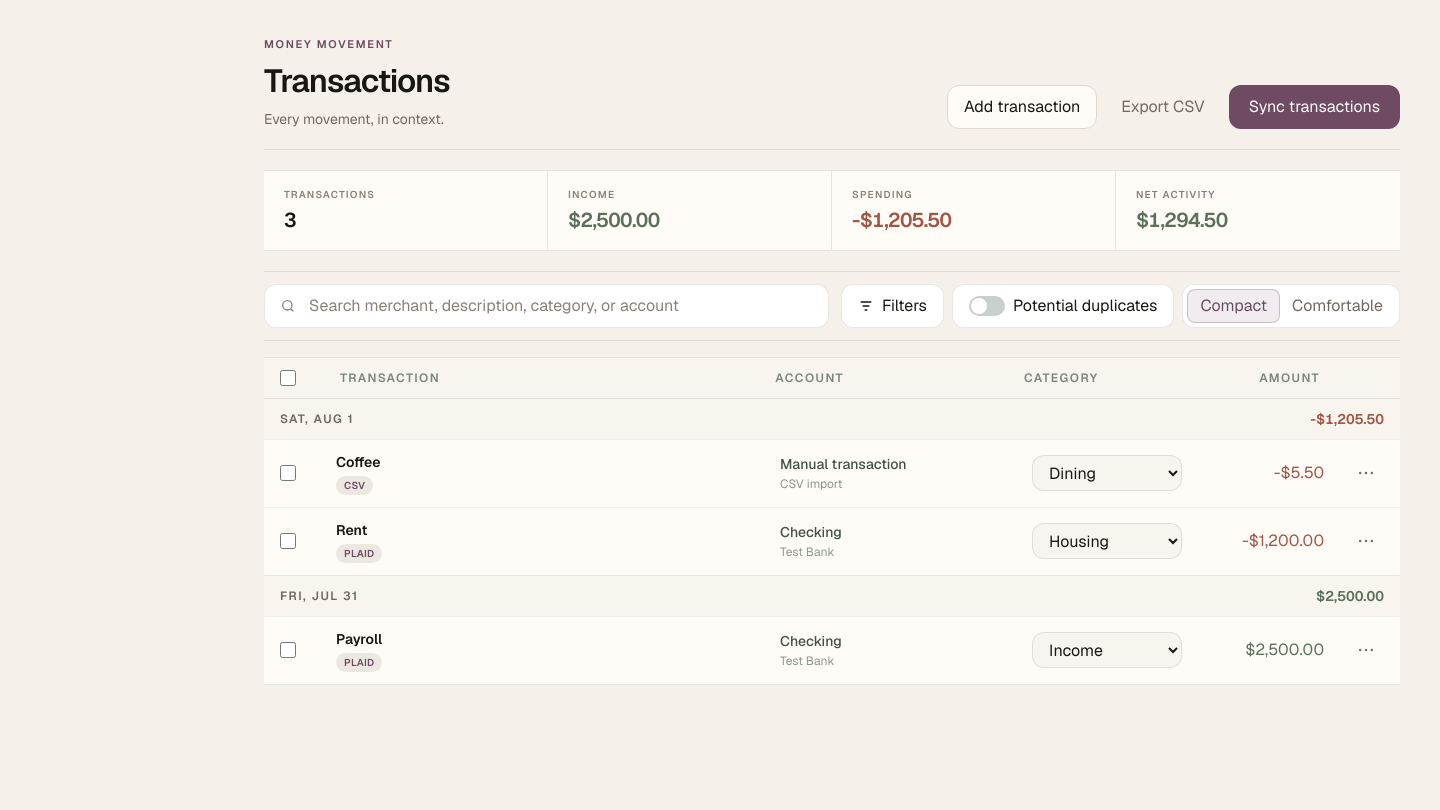
Test case: TransactionsPage bulk workflows › applies one bulk category request and offers Undo
The image size is (1440, 810).
Click the checkbox named "Select Coffee": {"x": 288, "y": 473} [280,465,296,481]
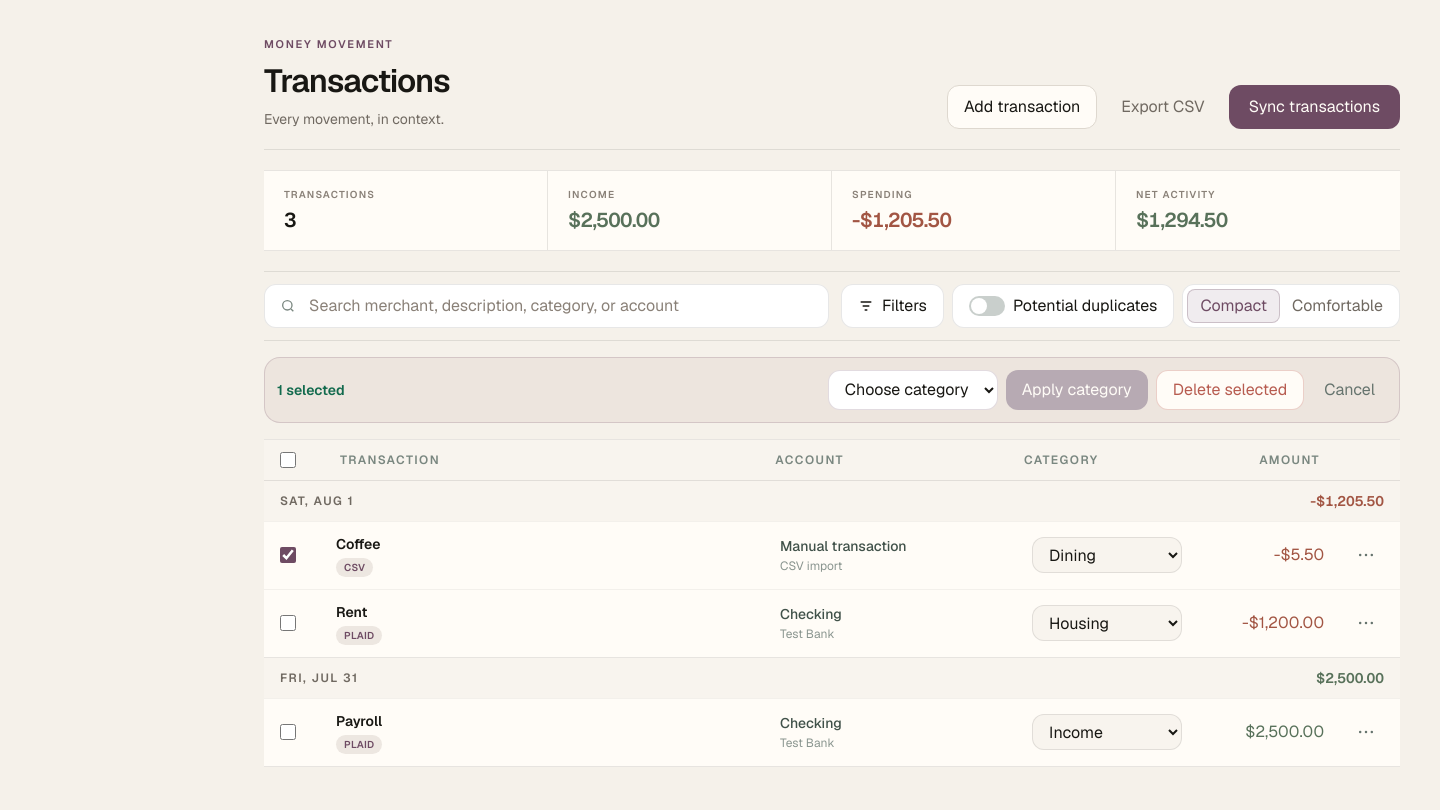
Click the checkbox named "Select Rent": {"x": 288, "y": 623} [280,615,296,631]
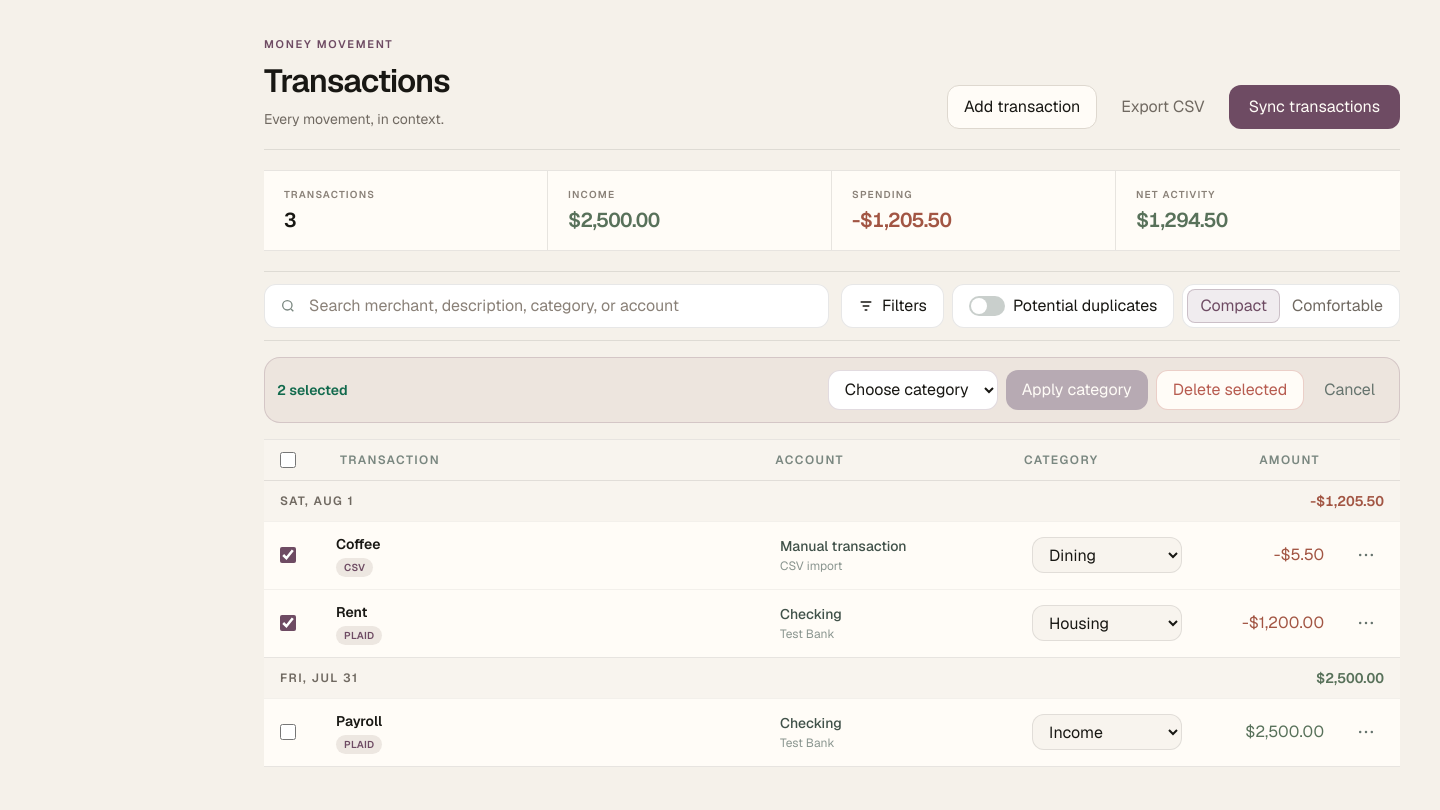
Select "Groceries" in the dropdown named "Bulk category": {"x": 913, "y": 390} [828,370,998,410]
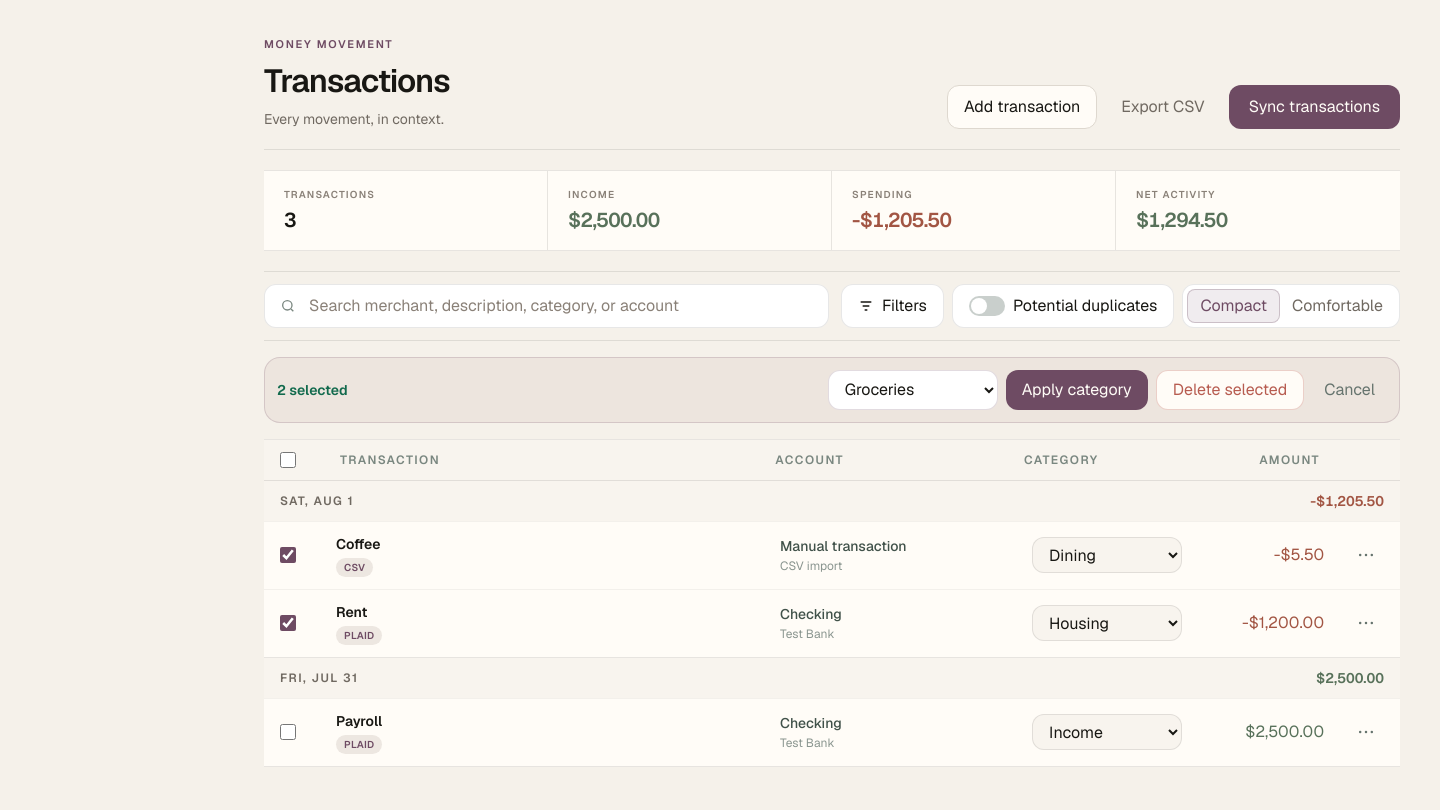
Click the button "Apply category": {"x": 1077, "y": 390} [1006,370,1148,410]
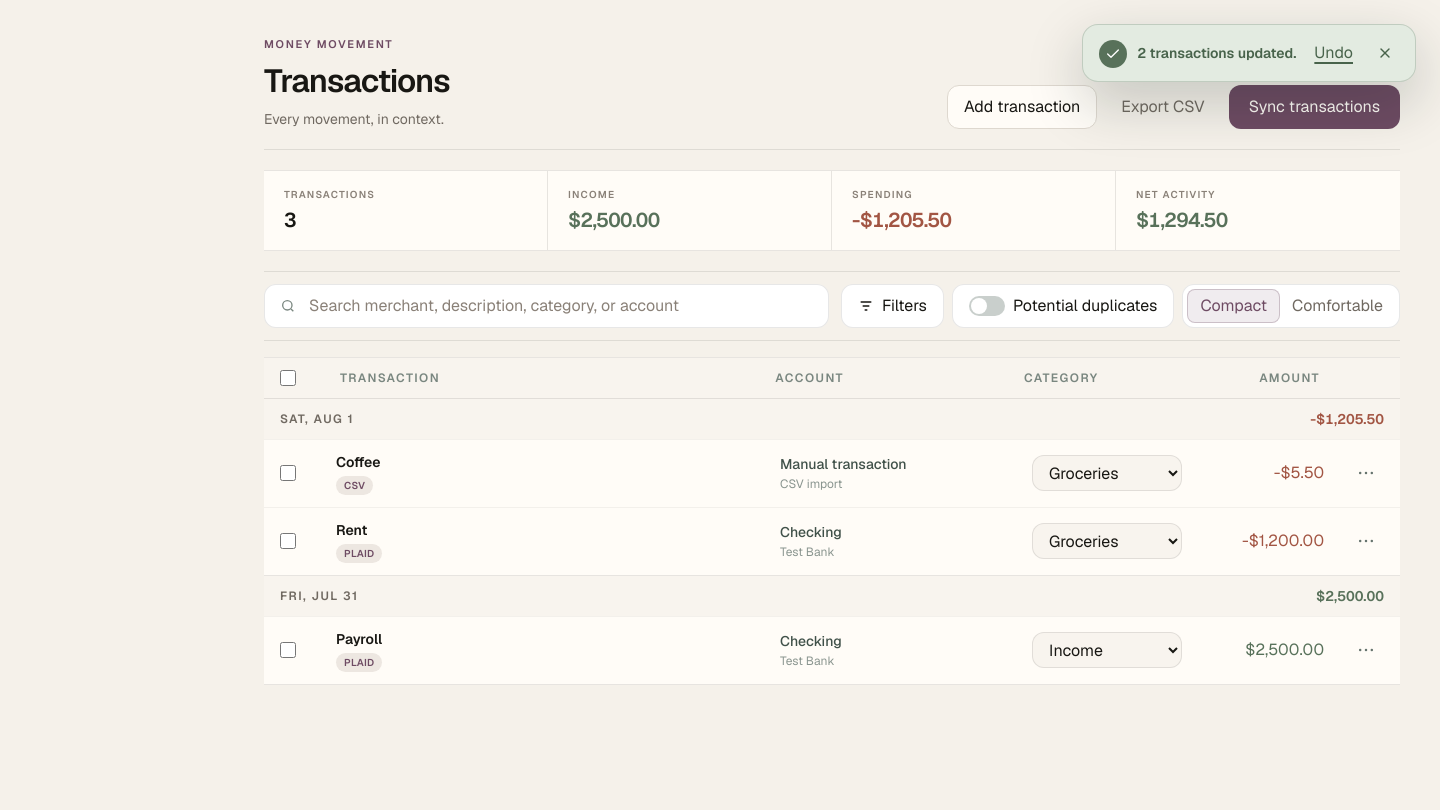
Check: the checkbox named "Select Coffee" is not checked, box [280,465,296,481]
Check: the dropdown named "Category for Coffee" shows "Groceries", box [1032,455,1182,491]
Check: the dropdown named "Category for Rent" shows "Groceries", box [1032,523,1182,559]
